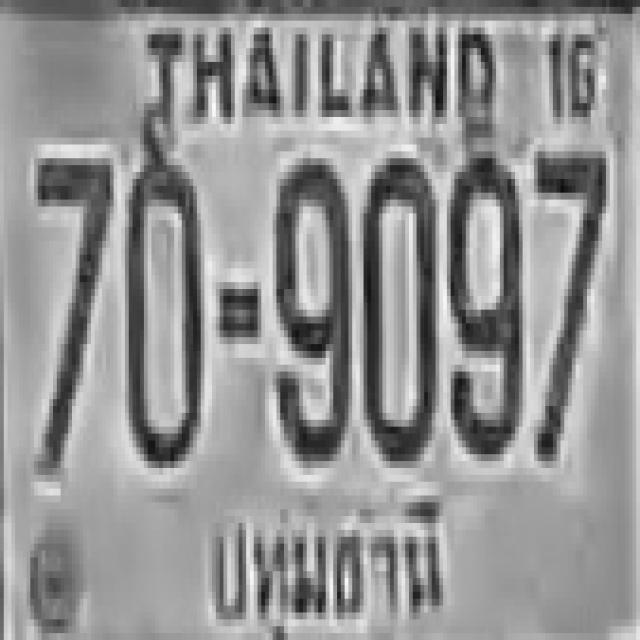0: (125, 145, 201, 461), (359, 151, 432, 461)
7: (34, 151, 110, 461), (532, 145, 604, 454)
9: (273, 152, 348, 454), (447, 145, 519, 454)
PTE: (198, 495, 450, 640)
